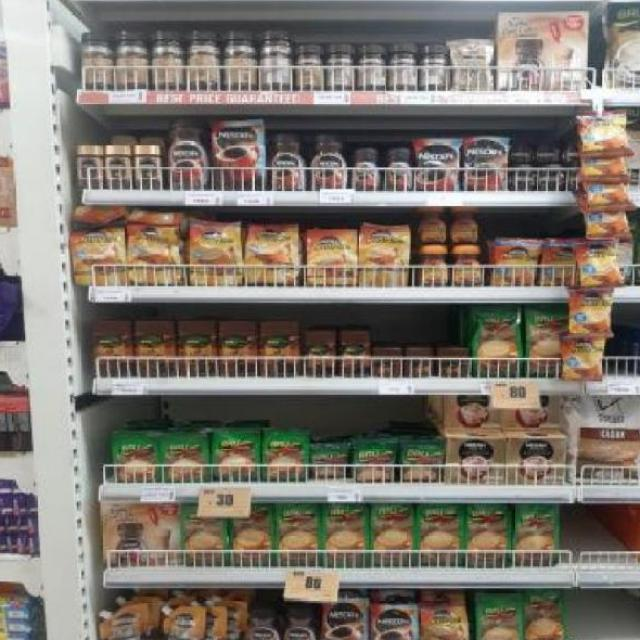Coffee: (163, 119, 211, 192), (213, 123, 264, 191), (190, 225, 241, 285), (246, 223, 296, 284), (127, 226, 180, 283), (359, 228, 409, 287), (73, 229, 124, 286), (308, 230, 356, 285), (267, 135, 308, 191), (464, 138, 508, 190), (309, 135, 350, 190), (415, 139, 458, 190), (492, 240, 539, 286), (324, 599, 368, 640), (568, 289, 609, 333), (420, 603, 468, 640), (579, 241, 620, 284), (372, 604, 417, 640), (563, 338, 600, 379), (541, 241, 575, 285), (130, 144, 163, 189), (418, 245, 450, 287), (451, 246, 485, 285), (351, 148, 381, 192), (103, 144, 132, 189), (76, 144, 104, 189), (384, 149, 414, 191), (244, 611, 283, 640), (417, 207, 448, 243), (451, 208, 482, 244), (586, 119, 623, 149), (283, 609, 318, 640), (537, 164, 565, 188), (510, 166, 534, 191), (536, 140, 560, 163), (511, 141, 534, 163)
